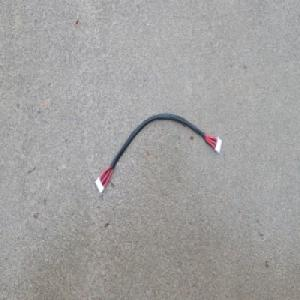Wire: (94, 111, 222, 195)
